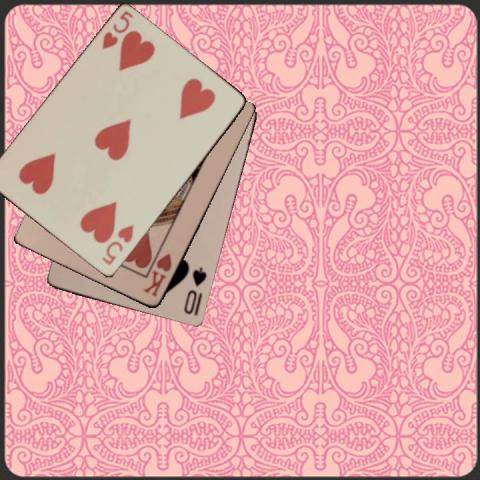10s: (180, 265, 208, 316)
5h: (99, 221, 136, 267), (99, 8, 135, 51)
Kh: (141, 250, 173, 299)
